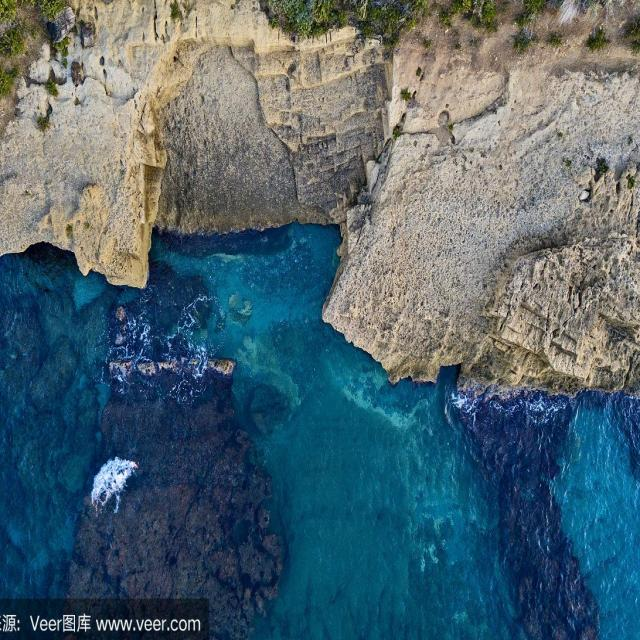reef: (90, 307, 297, 601), (488, 380, 588, 622), (75, 162, 220, 258)
